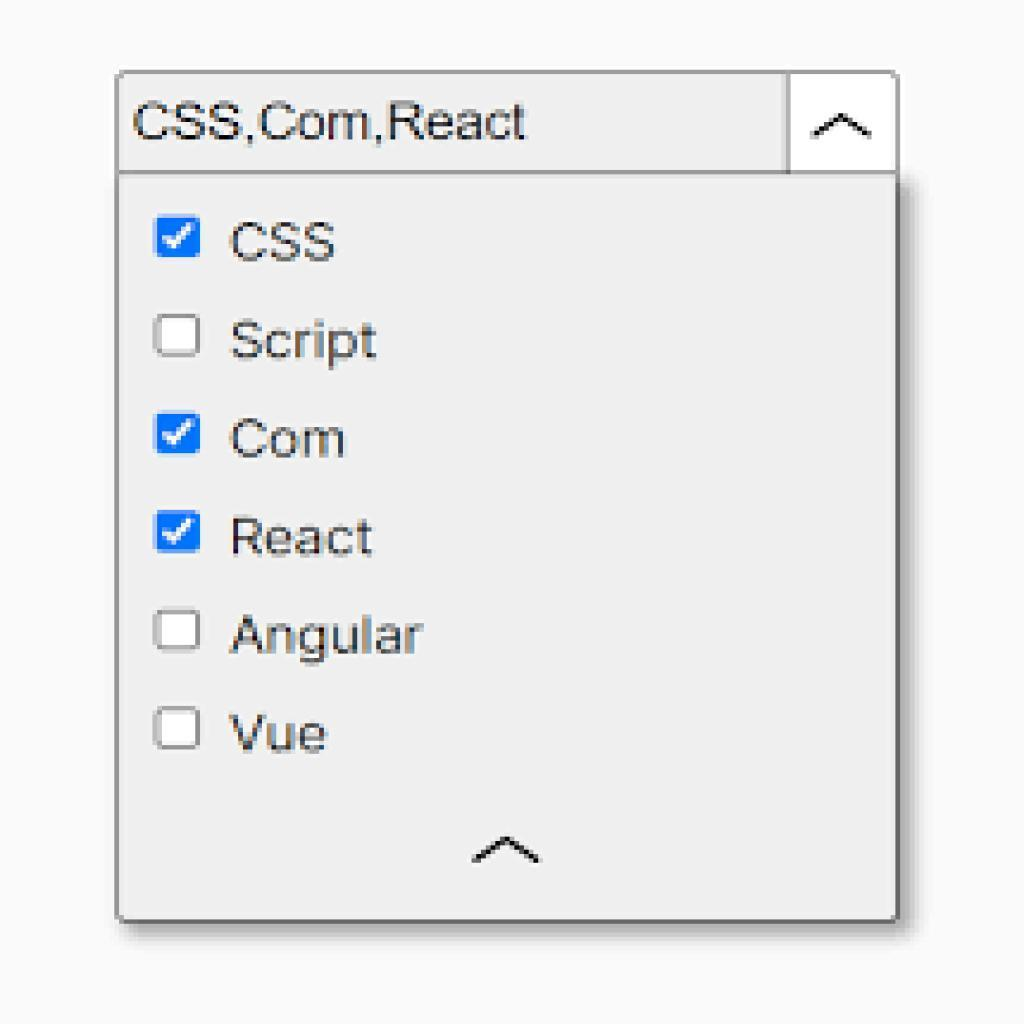checkbox: (155, 509, 202, 552), (157, 412, 202, 456), (155, 609, 203, 648), (156, 217, 201, 257), (156, 314, 201, 354), (157, 708, 199, 746)
dropdown: (115, 74, 899, 172)
label: (230, 605, 429, 675), (235, 311, 387, 372), (229, 506, 381, 567), (230, 411, 345, 468), (230, 706, 336, 764), (232, 215, 341, 268)
